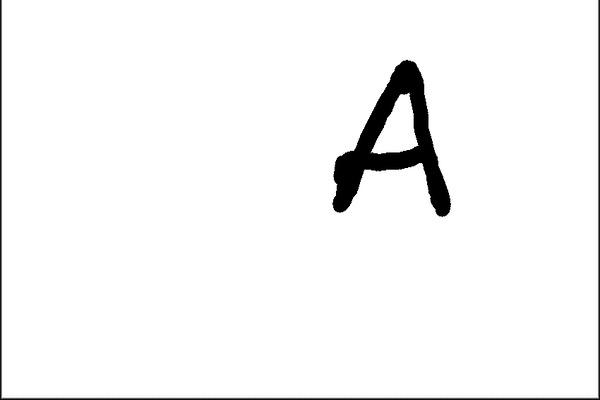A: (318, 48, 464, 224)
